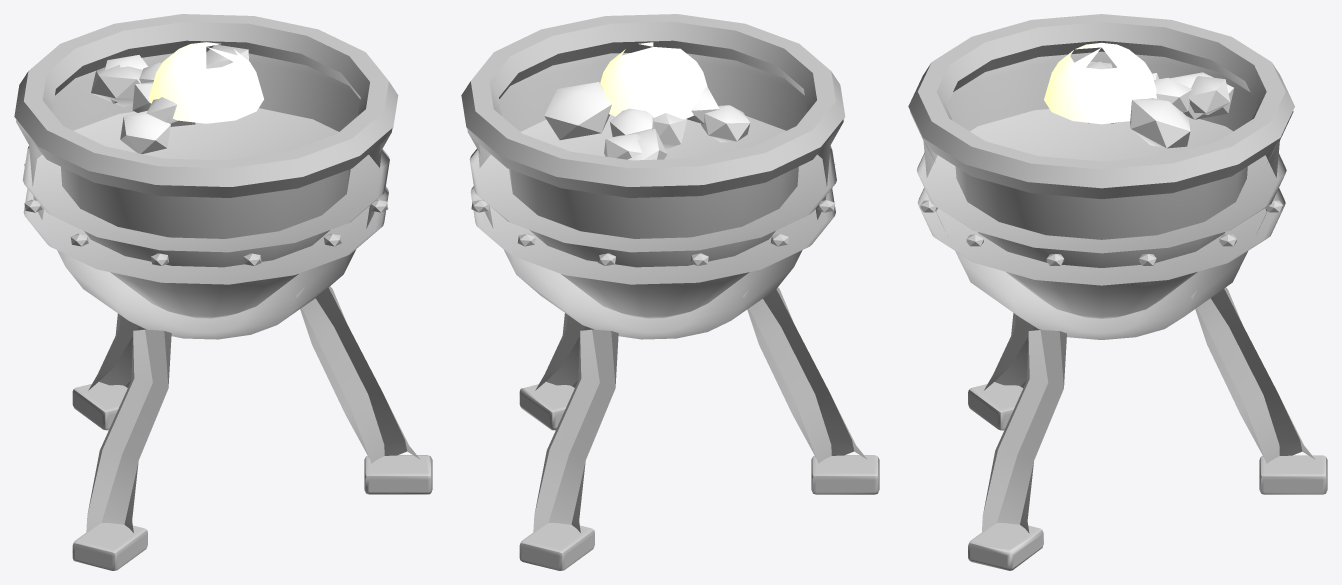
File: brazier.glb
3 renders of one model, left to right at view 1: azimuth 30°, elevation 25°; view 2: azimuth 150°, elevation 25°; view 3: azimuth 270°, elevation 25°, orthographic.
Visible parts, largest first — view 1: brazier, brazier-glow, brazier-charcoal; view 2: brazier, brazier-charcoal, brazier-glow; view 3: brazier, brazier-glow, brazier-charcoal.
Part boxes in pixels (x1,y1,x2,y2): brazier: [14, 14, 432, 570]; brazier-glow: [149, 42, 263, 123]; brazier-charcoal: [91, 44, 248, 153]; brazier: [461, 14, 879, 570]; brazier-charcoal: [544, 82, 750, 160]; brazier-glow: [600, 42, 707, 119]; brazier: [908, 14, 1327, 570]; brazier-glow: [1044, 42, 1156, 124]; brazier-charcoal: [1086, 61, 1233, 148].
Size of the model in its own units: 0.7868 by 0.92 by 0.798.
